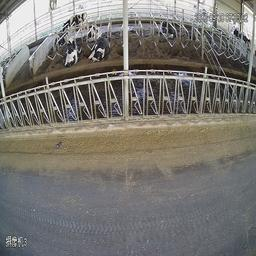cow: (55, 14, 81, 39), (87, 36, 111, 61), (63, 41, 81, 68), (159, 18, 175, 40), (87, 22, 101, 44)
